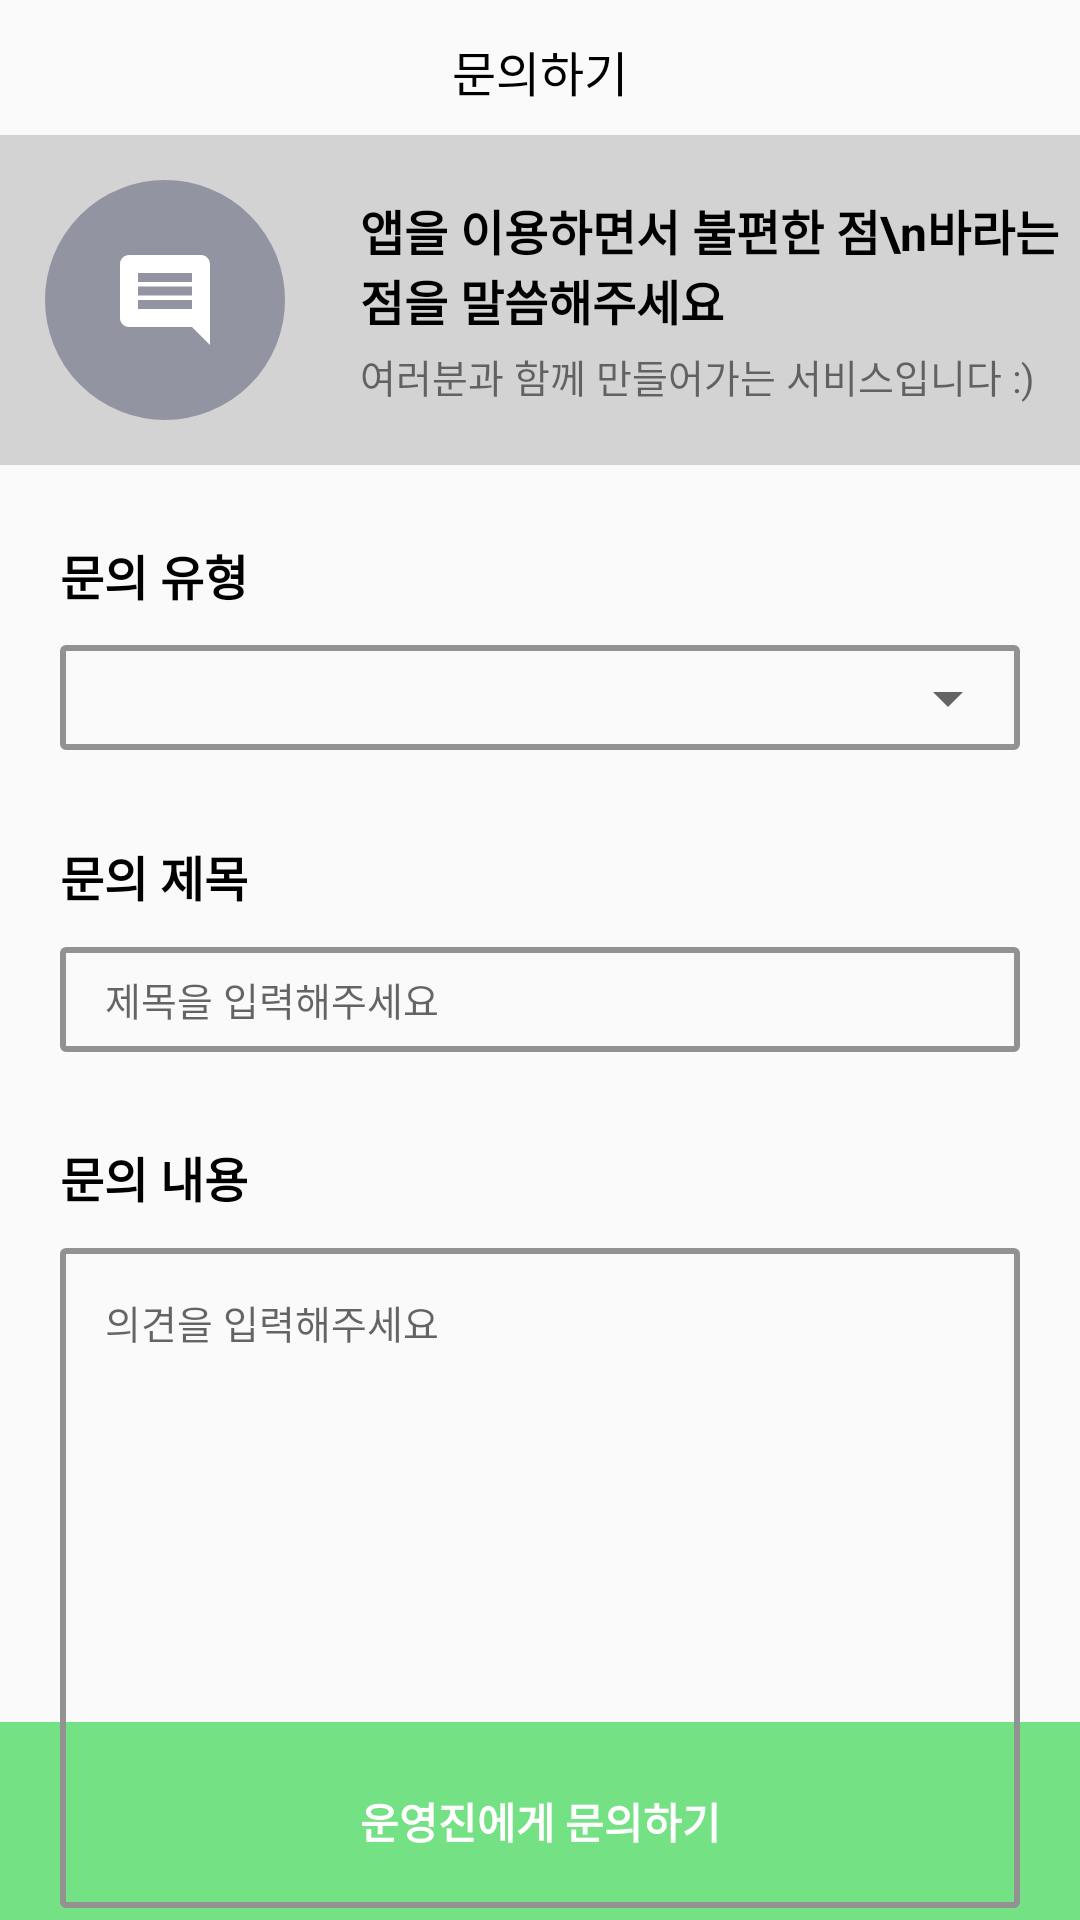

Point at icon controls on the screen. Image size 1080w x 1920h, points as [x,y].
comment: [165,300]
